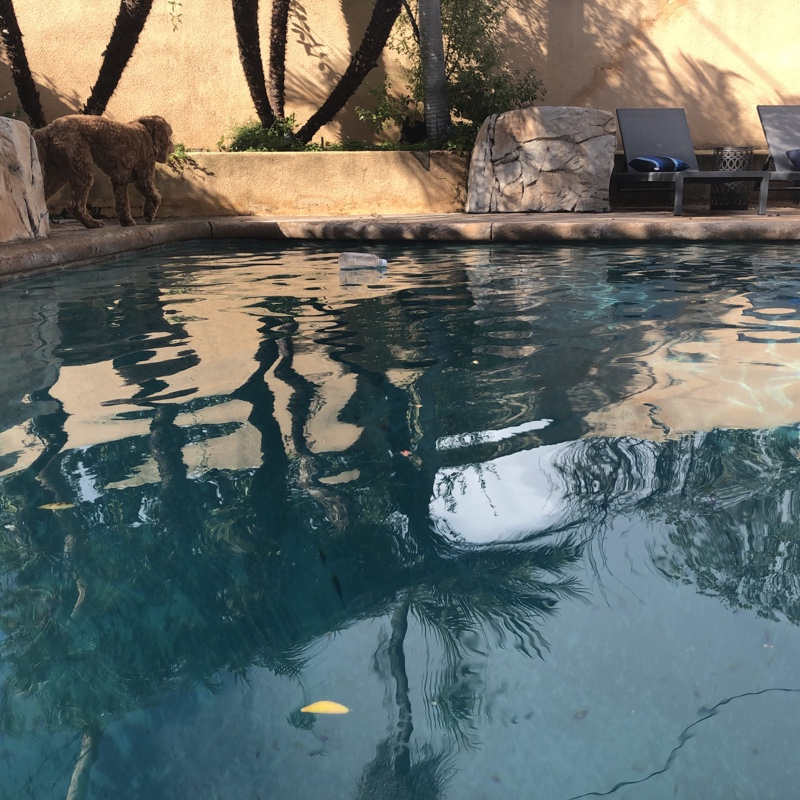Plastic Bottle: (336, 250, 392, 272)
